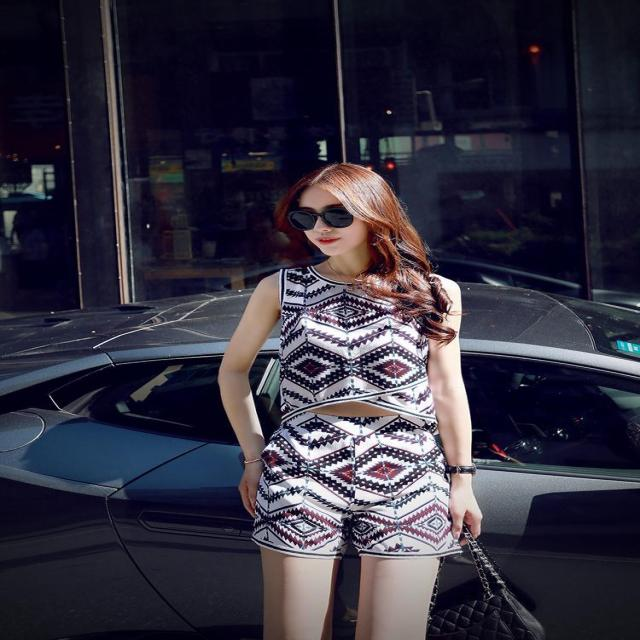shorts: (253, 411, 460, 556)
vest: (282, 268, 439, 422)
